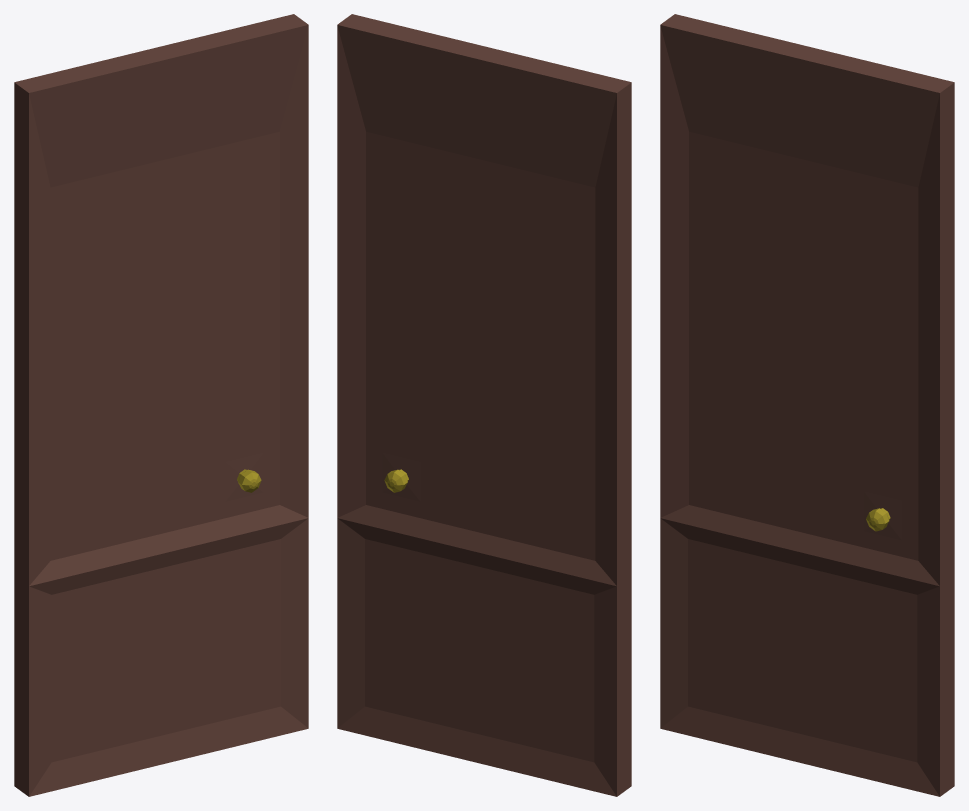
File: M_Door.fbx
3 renders of one model, left to right at view 1: azimuth 30°, elevation 25°; view 2: azimuth 150°, elevation 25°; view 3: azimuth 330°, elevation 25°, orthographic.
Visible parts, largest first — view 1: BackupDoor; view 2: BackupDoor; view 3: BackupDoor.
Part boxes in pixels (x1,y1,x2,y2): BackupDoor: [14, 14, 308, 796]; BackupDoor: [337, 14, 631, 796]; BackupDoor: [660, 14, 954, 796].
Size of the model in its own units: 82.73 by 199 by 13.65.
